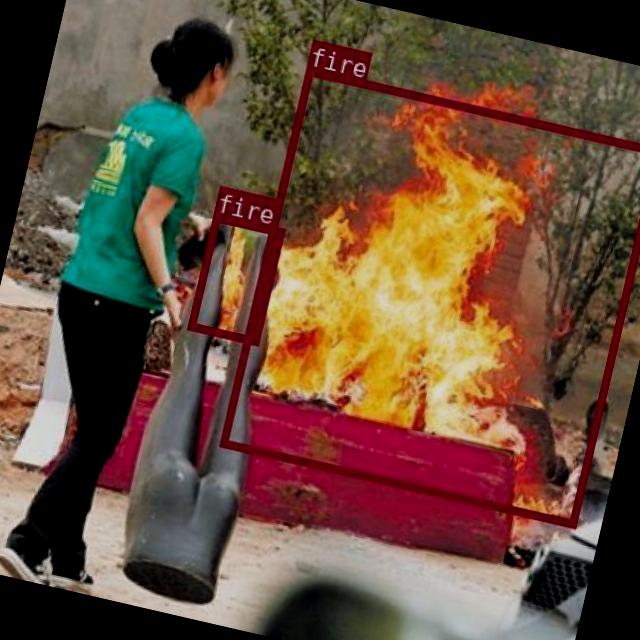fire: (217, 65, 640, 526), (186, 211, 283, 343)
